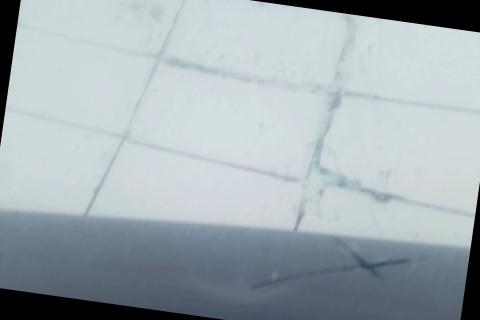keretakan: (247, 224, 427, 316)
